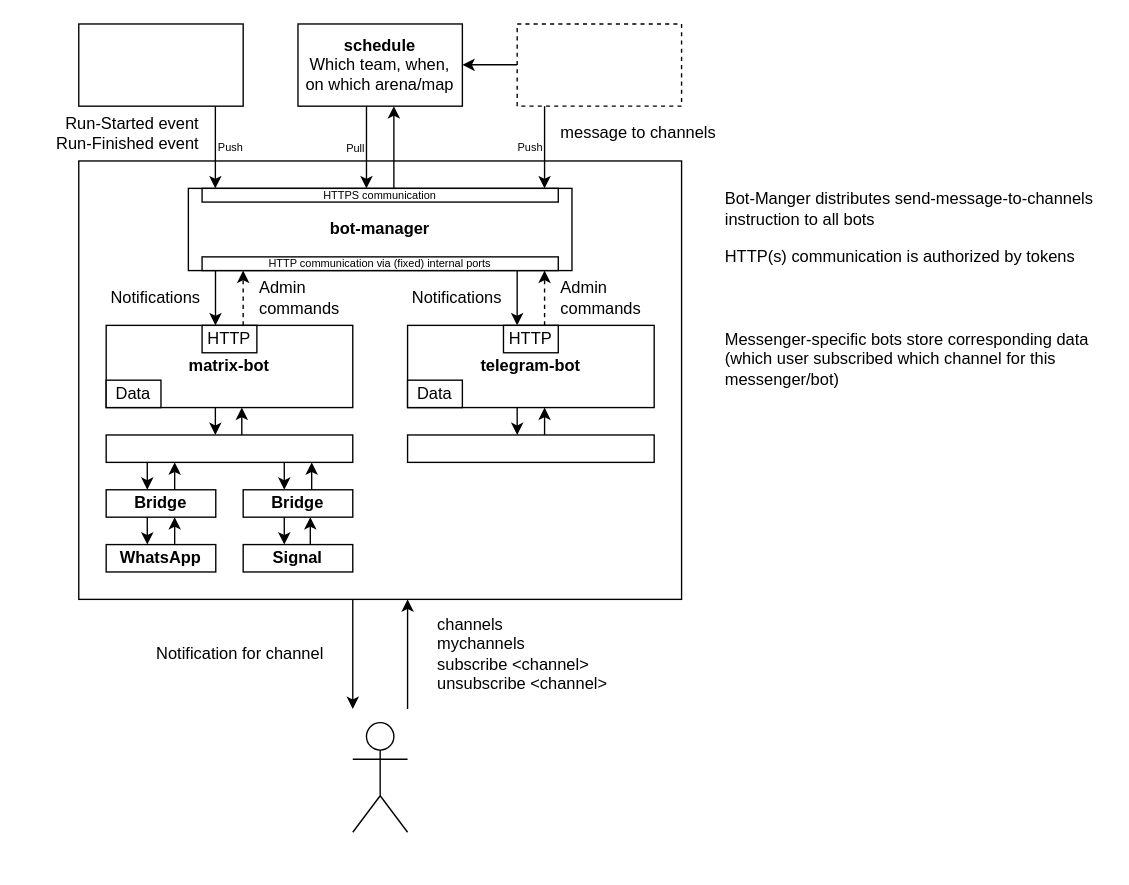
Some shapes in this 1129 by 885 pixel diagram are drawn without their labels. Each missing label, with the centre of its shape:
Admin Dashboard? send messages, update schedule: the point at 599,64
Matrix: the point at 229,448
Participants: the point at 379,776
rcj-server Storing runs in database: the point at 160,64
Telegram (API): the point at 530,448
